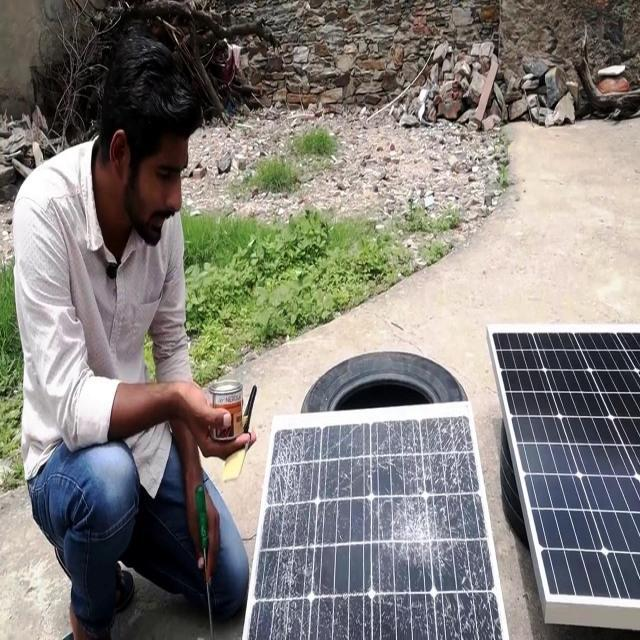faulty: (247, 404, 507, 637)
no faulty: (489, 326, 640, 604)
